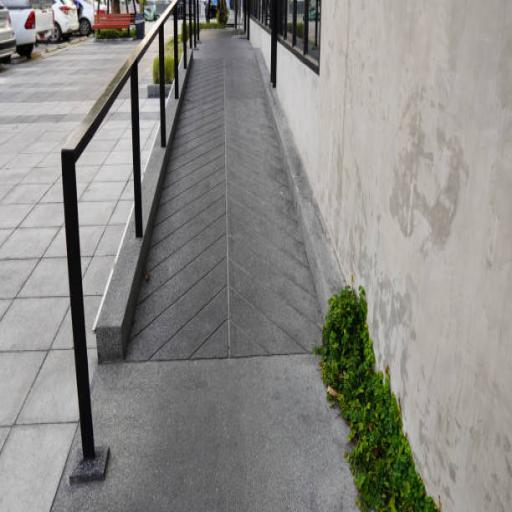ramp: (119, 55, 324, 359)
